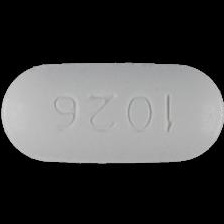0093-1026: (0, 0, 224, 224)
